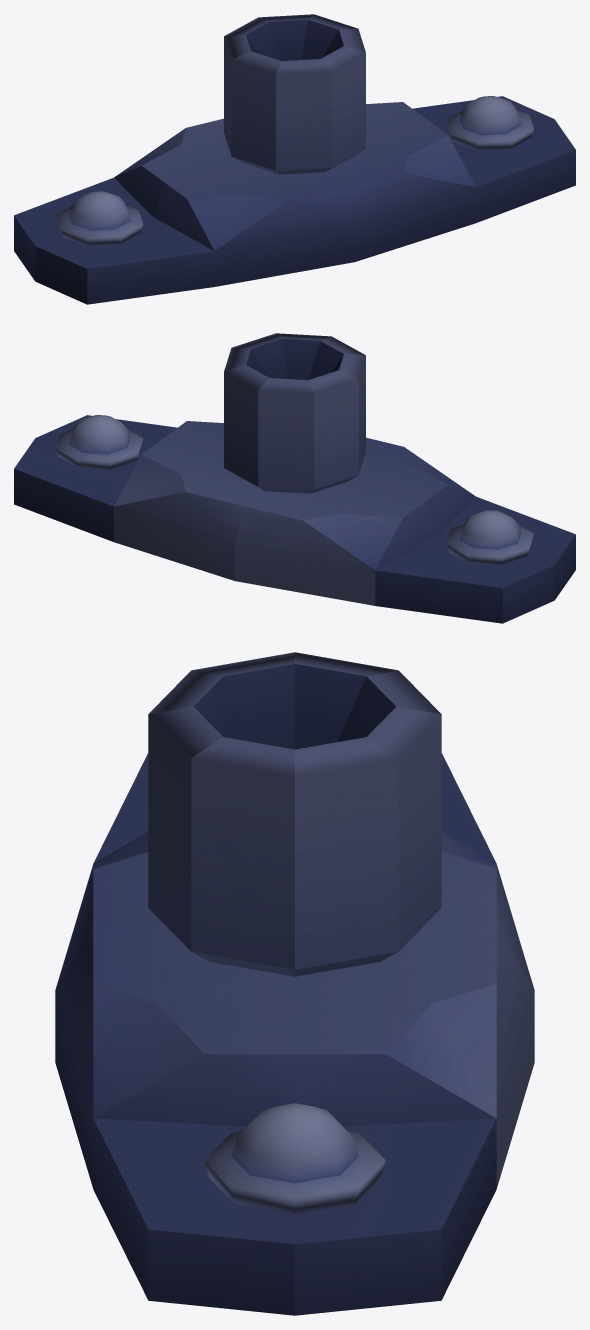
Rendered from turret_01.fbx.
3 renders of one model, top to bottom at view 1: azimuth 30°, elevation 25°; view 2: azimuth 150°, elevation 25°; view 3: azimuth 270°, elevation 25°, orthographic. The views are drawn at different scales.
Visible parts, largest first — view 1: pSphere8, turret_pipe; view 2: pSphere8, turret_pipe; view 3: pSphere8, turret_pipe.
Boxes of the visible parts, bbox=[...] form: pSphere8: bbox=[14, 96, 575, 304]; turret_pipe: bbox=[224, 14, 365, 174]; pSphere8: bbox=[14, 415, 575, 623]; turret_pipe: bbox=[224, 333, 365, 493]; pSphere8: bbox=[55, 753, 534, 1315]; turret_pipe: bbox=[148, 652, 441, 976].
Bounding box in the file's own units: 1.62 × 0.5291 × 0.647.
1 material, 1 textured.
